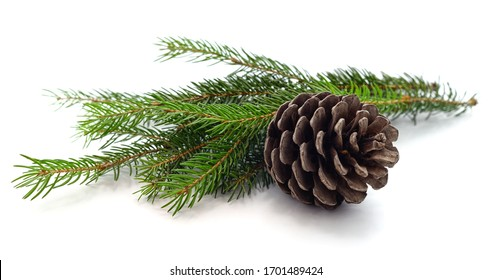Pc: (262, 93, 404, 209)
